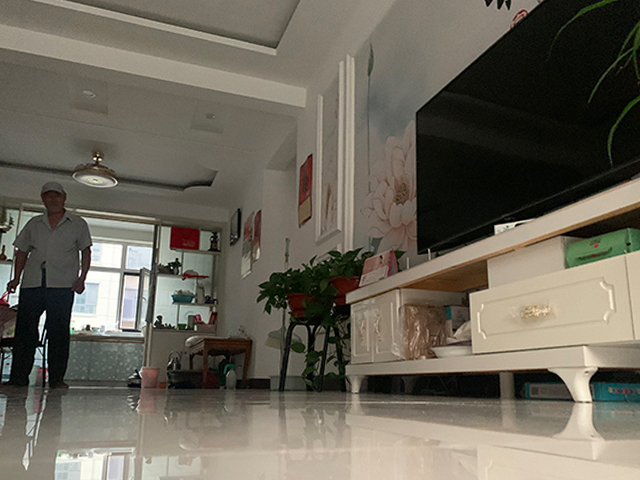cabinet: (344, 175, 640, 403), (143, 217, 220, 383), (67, 334, 143, 385)
table: (187, 338, 254, 389)
trashcan: (140, 366, 161, 389)
